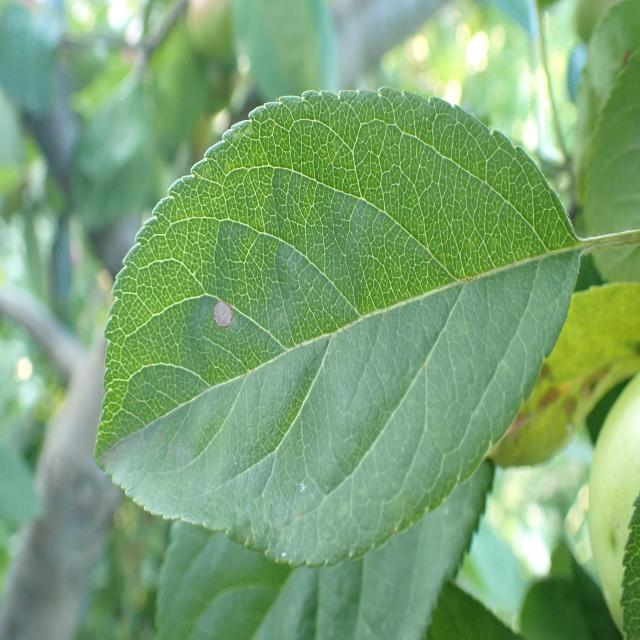Black Rot: (202, 278, 238, 345)
